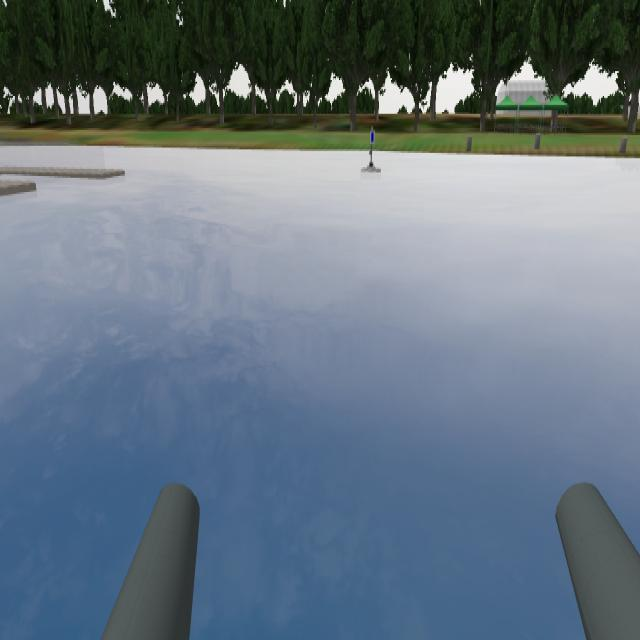blue_pole: (365, 126, 379, 147)
